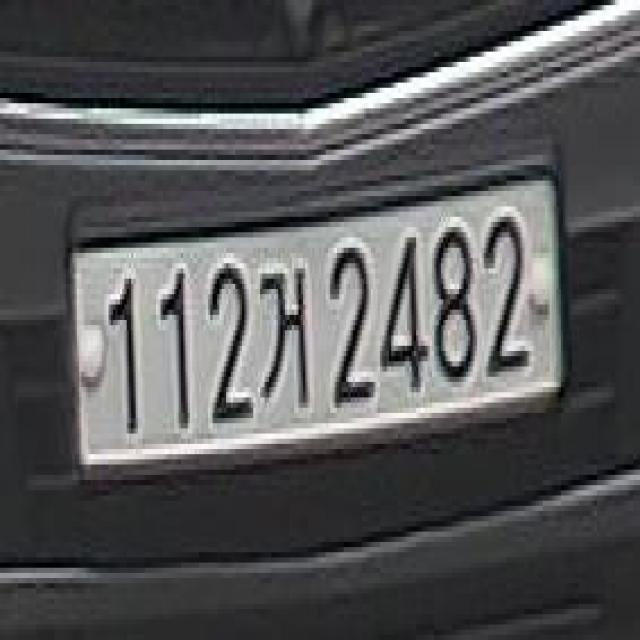illegal_plate: (72, 170, 562, 494)
